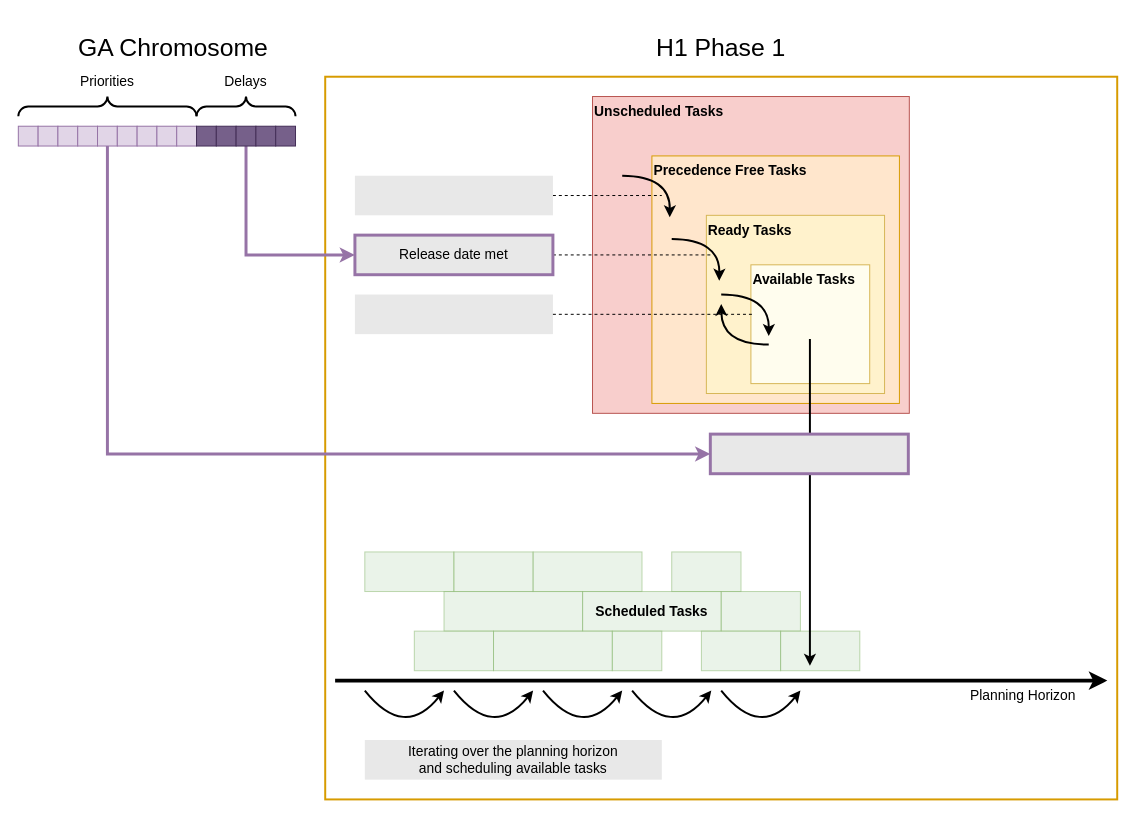
Image size: 1135x817. Some labels were removed from this diagram. Here are the shapes that lost their labels. From the top down, the centre of each, then its label:
the point at 453,195: All predecessors scheduled
the point at 453,314: Sufficient / Insufficient resources
the point at 808,453: Select based on priority and clustering rules
